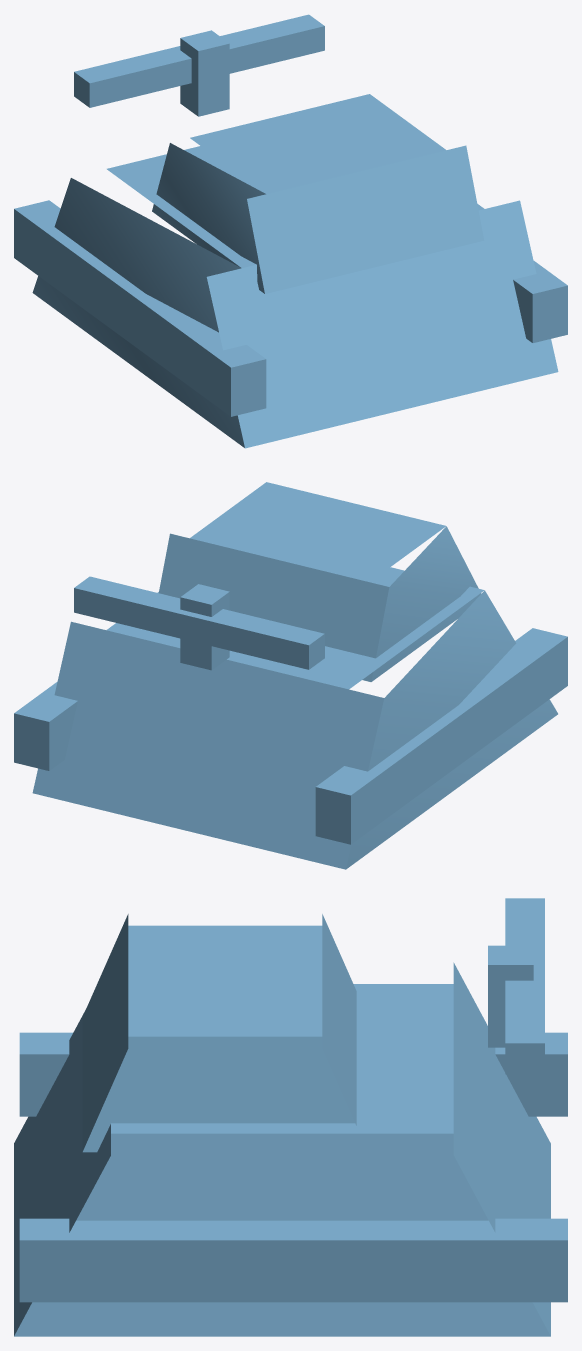
The model's file is basic_atv.body.glb.
The picture shows the model from 3 angles, top to bottom: view 1: azimuth 30°, elevation 25°; view 2: azimuth 150°, elevation 25°; view 3: azimuth 270°, elevation 25°; orthographic projection. The views are drawn at different scales.
Visible parts, largest first — view 1: basic_atv body; view 2: basic_atv body; view 3: basic_atv body.
Boxes of the visible parts, x1,y1,x2,y2 form: basic_atv body: (14, 14, 567, 448); basic_atv body: (14, 482, 567, 869); basic_atv body: (14, 898, 567, 1336).
Size of the model in its own units: 0.86 by 0.55 by 0.97.
